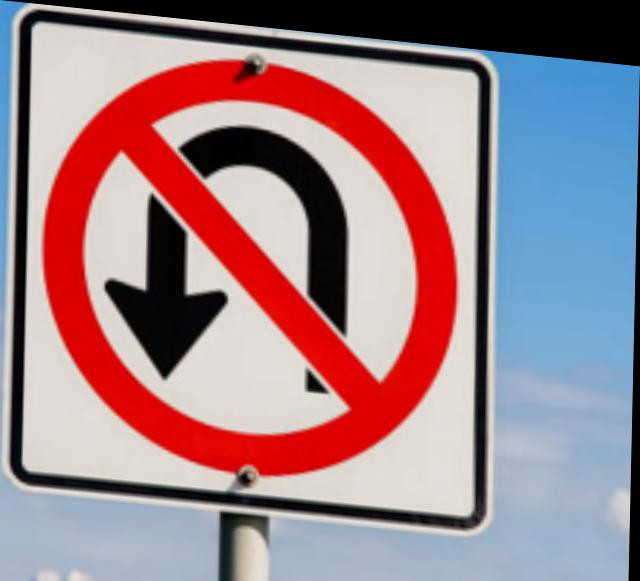not_u_turn_left: (42, 16, 476, 493)
